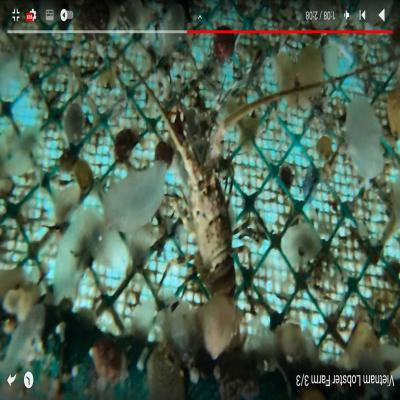lobster: (185, 137, 236, 298)
